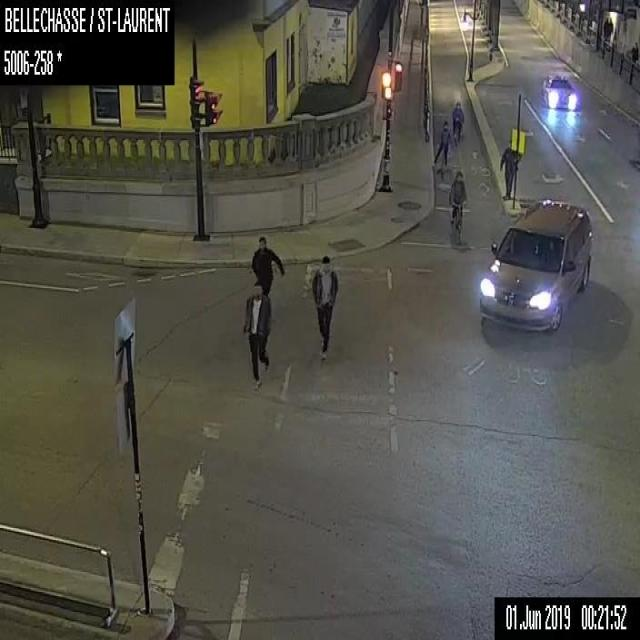pedestrian: (242, 282, 270, 391), (310, 252, 338, 359), (251, 235, 284, 299), (448, 170, 466, 243), (499, 140, 520, 198), (434, 120, 451, 165), (451, 100, 464, 146), (630, 42, 638, 62), (602, 16, 609, 38), (608, 16, 614, 38)
vehicle: (478, 200, 592, 332), (541, 75, 577, 108)
